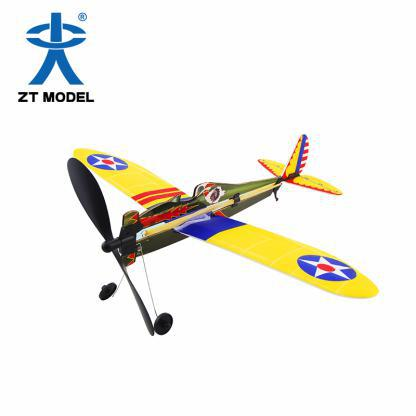CIV_Plane: (57, 131, 380, 341)
